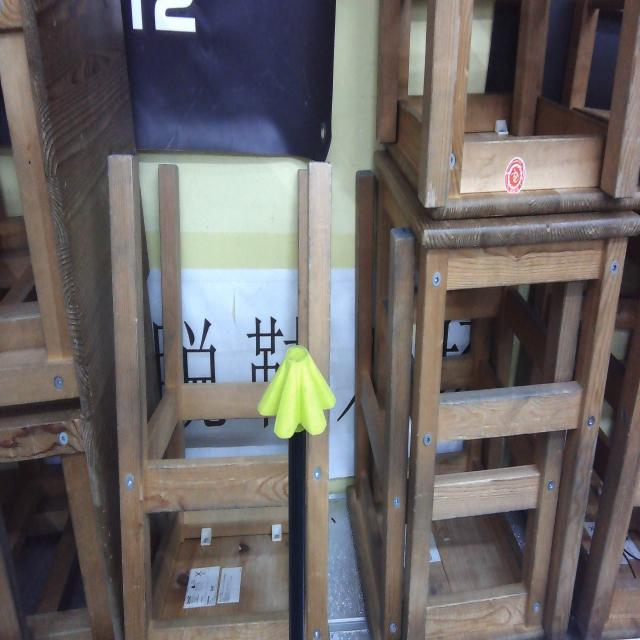Yellow-Stake-Head: (257, 344, 336, 440)
